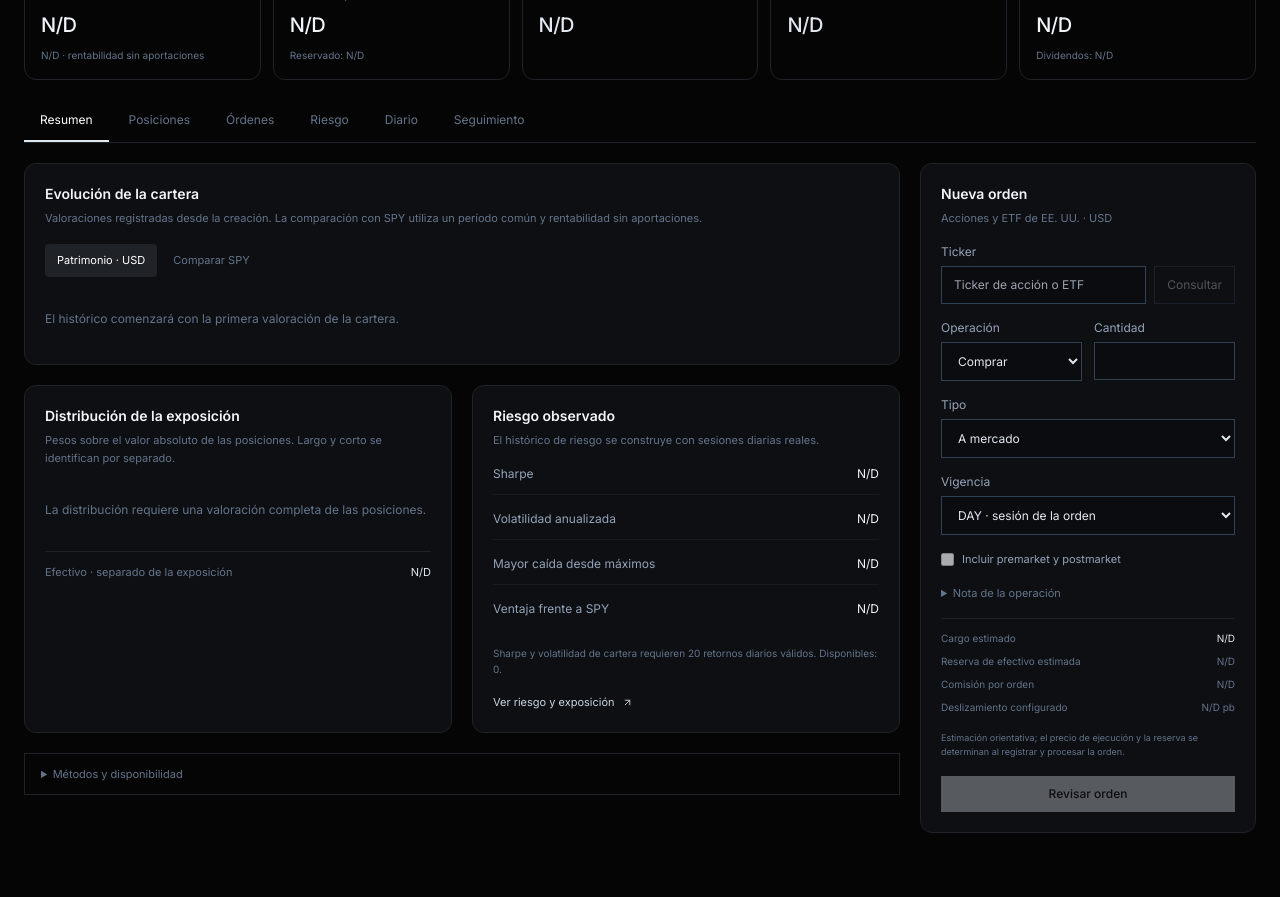
Test: keeps unmodelled taxes and unverified dividend payments explicit in the methods
(page scrolled)
Expected: the heading "Nueva orden" is shown, 941,185 -> 1027,202
Click the heading "Métodos y disponibilidad": click(118, 774) 53,766 -> 183,780
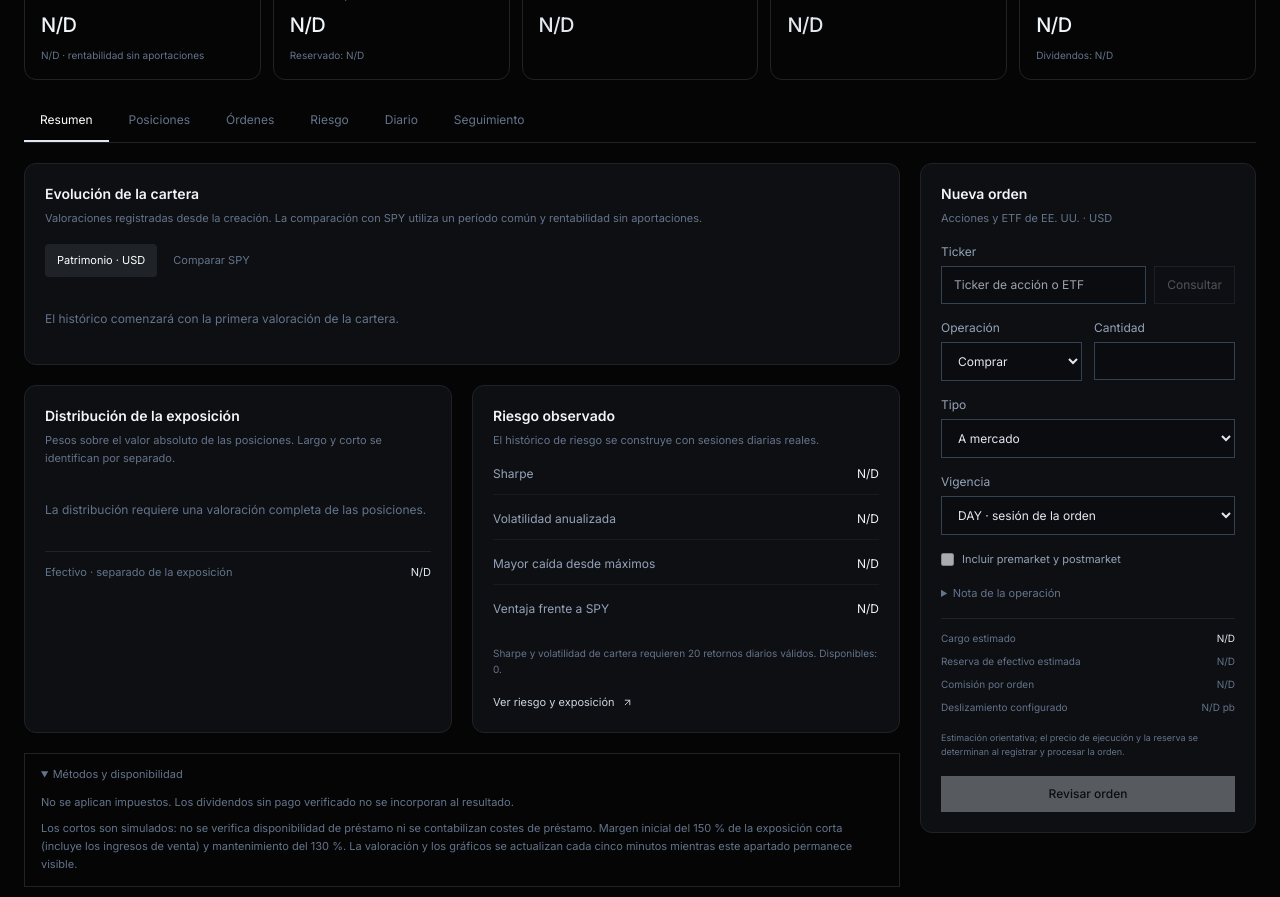
Now the text "No se aplican impuestos. Los dividendos sin pago verificado no se incorporan al resultado." is shown, box 41,795 -> 514,809
